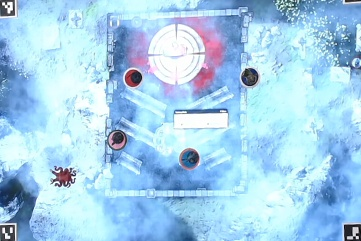blue: (239, 66, 262, 89)
giant_red_octopus: (51, 165, 74, 188)
light_blue_orange: (178, 145, 201, 168)
pink_green: (104, 129, 127, 152)
red: (121, 67, 144, 90)
